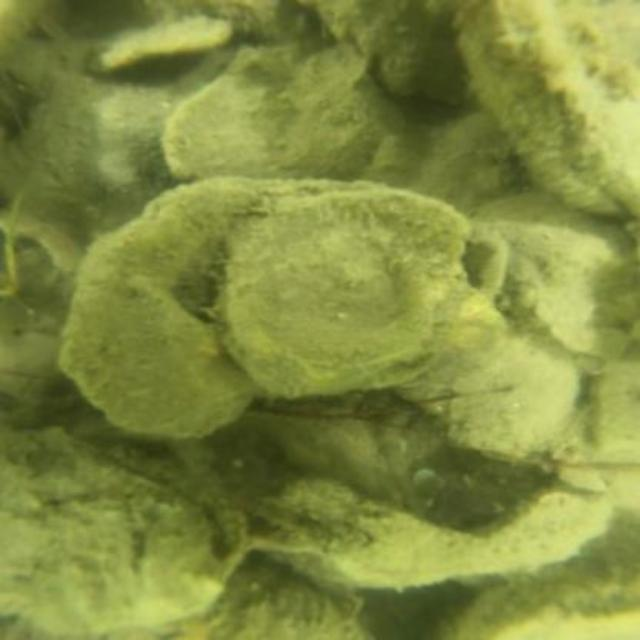Oyster-Closed: (0, 427, 254, 640), (63, 178, 252, 438), (463, 0, 635, 213), (163, 50, 383, 177), (461, 529, 638, 634), (216, 560, 359, 638)
Oyster-Open: (225, 193, 509, 390)
